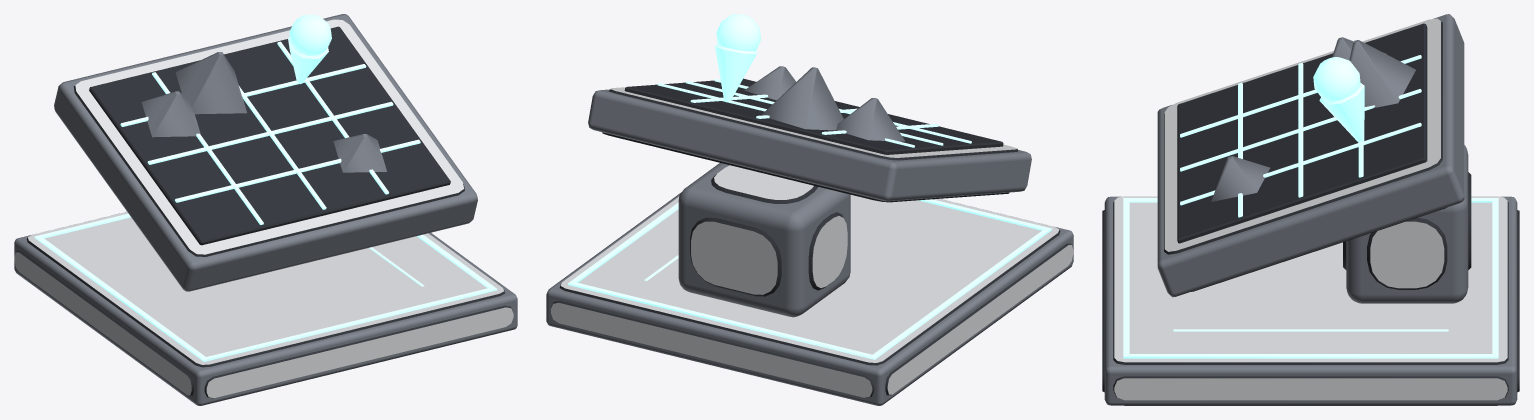
File: R4X_Minimap.fbx
3 views of the same model, side by side, from view 1: azimuth 30°, elevation 25°; view 2: azimuth 150°, elevation 25°; view 3: azimuth 270°, elevation 25° (orthographic). The views are drawn at different scales.
Visible parts, largest first — view 1: R4X_Minimap_Body; view 2: R4X_Minimap_Body; view 3: R4X_Minimap_Body.
Part boxes in pixels (left/top/right/bottom): R4X_Minimap_Body: left=14, top=14, right=517, bottom=405; R4X_Minimap_Body: left=546, top=14, right=1073, bottom=405; R4X_Minimap_Body: left=1102, top=14, right=1519, bottom=405.
Size of the model in its own units: 0.52 by 0.4044 by 0.52.
